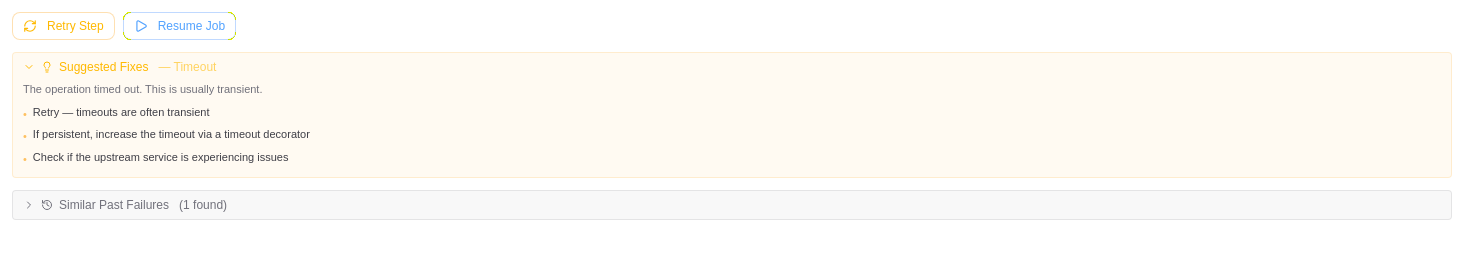
it: ErrorRecoverySuggestions › renders similar failures list
// Click to open the past failures section
Click the text "Similar Past Failures": (114, 205) [59,197,169,213]
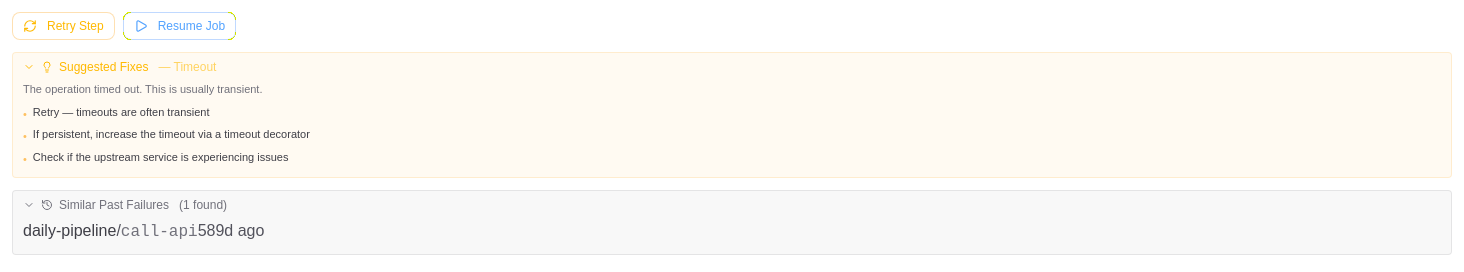
Expected: the text "daily-pipeline" is shown, [23,222,116,239]
Expected: the text "call-api" is shown, [121,223,198,241]
